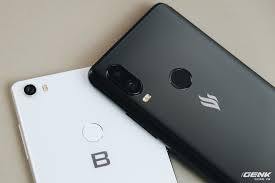vsmart: (88, 1, 275, 183)
